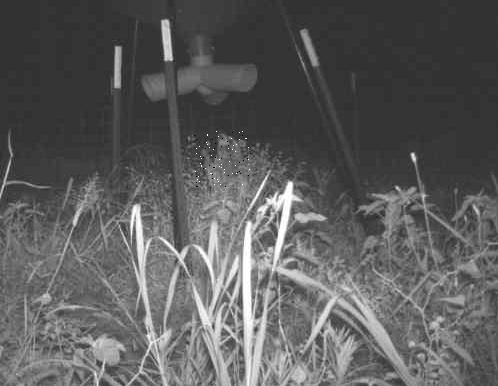Raccoon: (194, 128, 251, 187)
